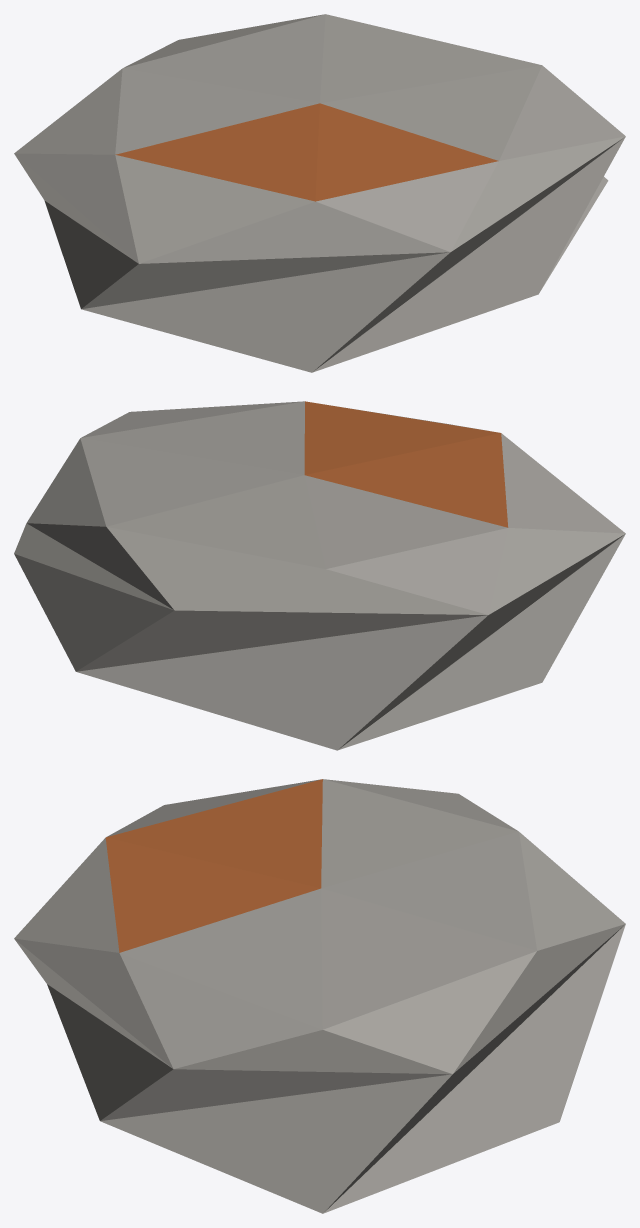
The model's file is item_rm_steel_a.obj.
The picture shows the model from 3 angles, top to bottom: view 1: azimuth 30°, elevation 25°; view 2: azimuth 150°, elevation 25°; view 3: azimuth 270°, elevation 25°; orthographic projection. The views are drawn at different scales.
Bounding box in the file's own units: 0.5851 × 0.1536 × 0.5108.
